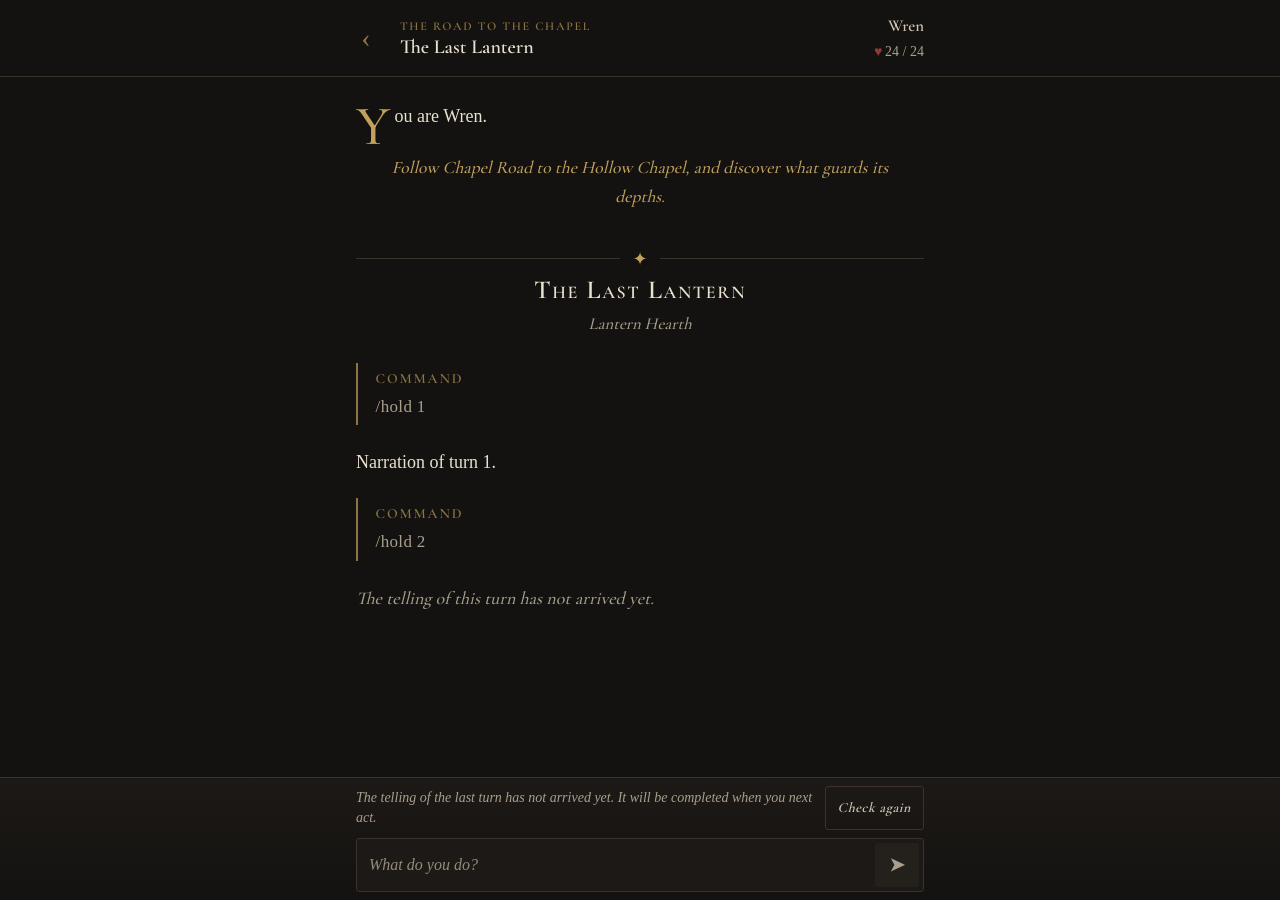
the live story screen › checks a finalizing turn with one read only, and fills in its telling
Check: the text "The telling of this turn has not arrived yet." is shown, box top-left (356, 586), bottom-right (654, 608)
Check: the message shows "has not arrived yet", box top-left (356, 790), bottom-right (812, 825)
Click the button "Check again" at (874, 808), box top-left (824, 786), bottom-right (924, 830)
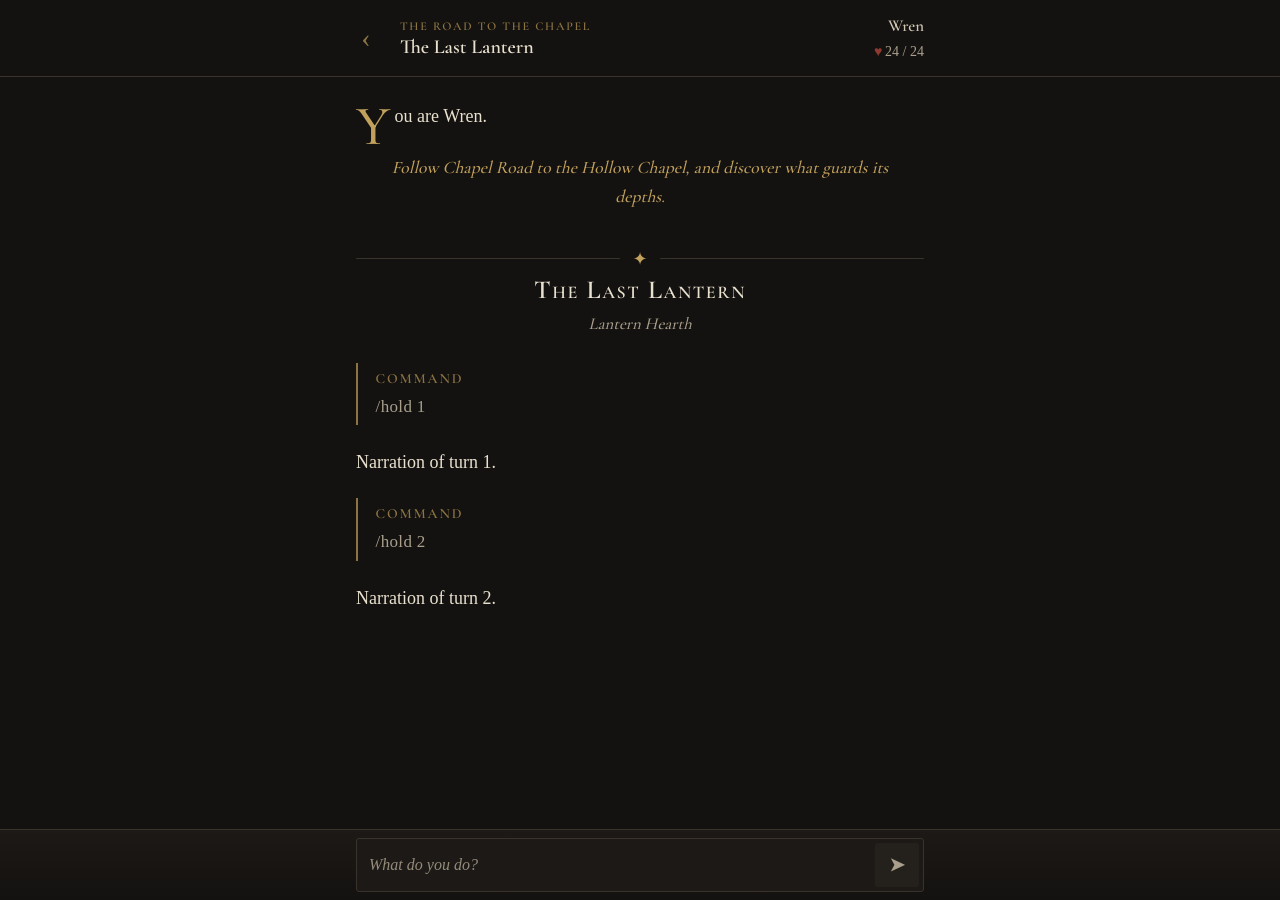
Check: the text "Narration of turn 2." is shown, box top-left (356, 588), bottom-right (496, 608)
Check: the button "Check again" is gone
